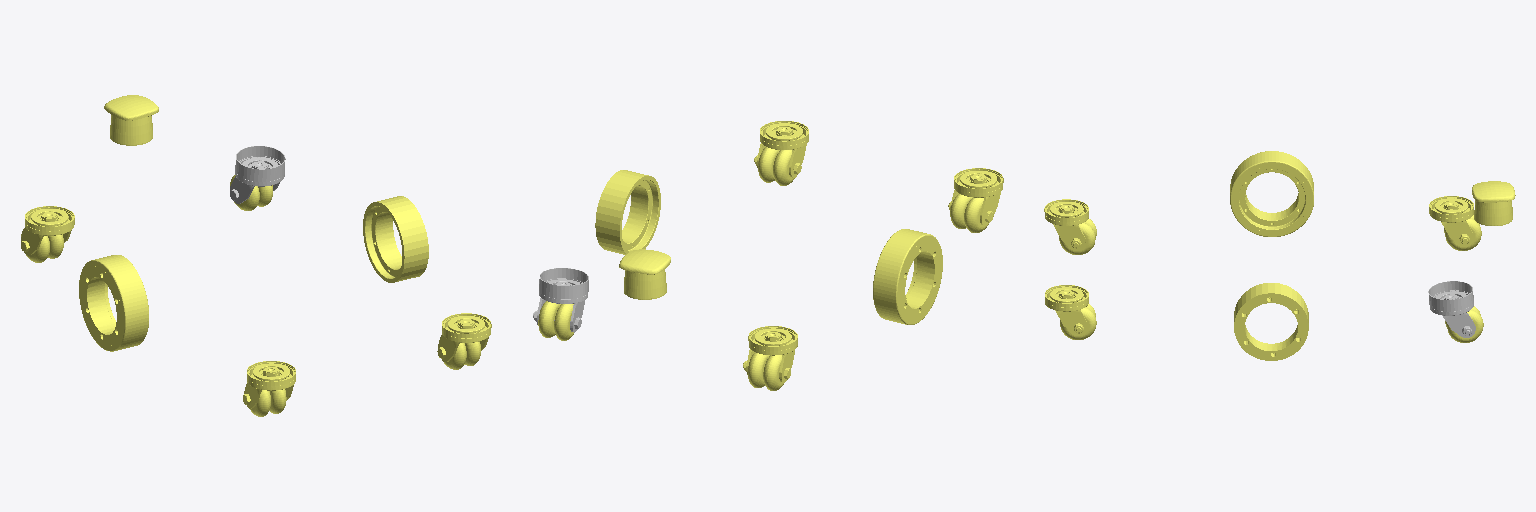
robot.urdf — sia_agv2:
<?xml version="1.0" encoding="utf-8"?>
<!-- This URDF was automatically created by SolidWorks to URDF Exporter! Originally created by [author] ([email redacted]) 
     Commit Version: 1.6.0-1-g15f4949  Build Version: 1.6.7594.29634
     For more information, please see http://wiki.ros.org/sw_urdf_exporter -->
<robot
  name="sia_agv2">
  <link
    name="base_link">
    <inertial>
      <origin
        xyz="-0.000543863853506091 0.282716810863512 -0.36138635137112"
        rpy="0 0 0" />
      <mass
        value="29.2907917401275" />
      <inertia
        ixx="0.658416147229005"
        ixy="0.000444325594903029"
        ixz="-5.22965035739952E-05"
        iyy="0.481294666894637"
        iyz="0.000150147215019541"
        izz="0.989603236439599" />
    </inertial>
    <visual>
      <origin
        xyz="0 0 0"
        rpy="0 0 0" />
      <geometry>
        <mesh
          filename="package://sia_agv2/meshes/base_link.STL" />
      </geometry>
      <material
        name="">
        <color
          rgba="1 1 1 1" />
      </material>
    </visual>
    <collision>
      <origin
        xyz="0 0 0"
        rpy="0 0 0" />
      <geometry>
        <mesh
          filename="package://sia_agv2/meshes/base_link.STL" />
      </geometry>
    </collision>
  </link>
  <link
    name="1_Link">
    <inertial>
      <origin
        xyz="-8.14202632020283E-05 0.00610304740119338 -0.0161440698140209"
        rpy="0 0 0" />
      <mass
        value="0.0728108307863773" />
      <inertia
        ixx="2.279226907759E-05"
        ixy="-1.52431962880911E-07"
        ixz="-1.17033639983441E-07"
        iyy="2.43402166733781E-05"
        iyz="1.19958125852891E-06"
        izz="3.97943793169979E-05" />
    </inertial>
    <visual>
      <origin
        xyz="0 0 0"
        rpy="0 0 0" />
      <geometry>
        <mesh
          filename="package://sia_agv2/meshes/1_Link.STL" />
      </geometry>
      <material
        name="">
        <color
          rgba="1 1 0.501960784313725 1" />
      </material>
    </visual>
    <collision>
      <origin
        xyz="0 0 0"
        rpy="0 0 0" />
      <geometry>
        <mesh
          filename="package://sia_agv2/meshes/1_Link.STL" />
      </geometry>
    </collision>
  </link>
  <joint
    name="1-joint"
    type="revolute">
    <origin
      xyz="-0.194 0.59539 -0.604"
      rpy="0 0 0" />
    <parent
      link="base_link" />
    <child
      link="1_Link" />
    <axis
      xyz="0 0 -1" />
    <limit
      lower="-3.14"
      upper="3.14"
      effort="0"
      velocity="0" />
  </joint>
  <link
    name="1-1_Link">
    <inertial>
      <origin
        xyz="1.54128708518275E-07 -6.35365208223604E-07 -2.08668753956531E-07"
        rpy="0 0 0" />
      <mass
        value="0.126066263473178" />
      <inertia
        ixx="3.69211700768695E-05"
        ixy="1.59275080958781E-11"
        ixz="-4.07947748521245E-10"
        iyy="3.69211197129469E-05"
        iyz="1.49202086216788E-09"
        izz="6.47847031089787E-05" />
    </inertial>
    <visual>
      <origin
        xyz="0 0 0"
        rpy="0 0 0" />
      <geometry>
        <mesh
          filename="package://sia_agv2/meshes/1-1_Link.STL" />
      </geometry>
      <material
        name="">
        <color
          rgba="1 1 0.501960784313725 1" />
      </material>
    </visual>
    <collision>
      <origin
        xyz="0 0 0"
        rpy="0 0 0" />
      <geometry>
        <mesh
          filename="package://sia_agv2/meshes/1-1_Link.STL" />
      </geometry>
    </collision>
  </link>
  <joint
    name="1-1_joint"
    type="revolute">
    <origin
      xyz="-0.0019416 0.019905 -0.0435"
      rpy="1.5708 0 -1.4736" />
    <parent
      link="1_Link" />
    <child
      link="1-1_Link" />
    <axis
      xyz="0 0 -1" />
    <limit
      lower="-3.14"
      upper="3.14"
      effort="0"
      velocity="0" />
  </joint>
  <link
    name="2_Link">
    <inertial>
      <origin
        xyz="-0.000336543565982339 0.0067145336674802 -0.0138488838342261"
        rpy="0 0 0" />
      <mass
        value="0.0773960442571589" />
      <inertia
        ixx="2.79271956658027E-05"
        ixy="-2.09328673275462E-07"
        ixz="-1.86296961191266E-07"
        iyy="2.93597569308493E-05"
        iyz="-2.80412358155225E-08"
        izz="4.69036460817845E-05" />
    </inertial>
    <visual>
      <origin
        xyz="0 0 0"
        rpy="0 0 0" />
      <geometry>
        <mesh
          filename="package://sia_agv2/meshes/2_Link.STL" />
      </geometry>
      <material
        name="">
        <color
          rgba="0.854901960784314 0.854901960784314 0.854901960784314 1" />
      </material>
    </visual>
    <collision>
      <origin
        xyz="0 0 0"
        rpy="0 0 0" />
      <geometry>
        <mesh
          filename="package://sia_agv2/meshes/2_Link.STL" />
      </geometry>
    </collision>
  </link>
  <joint
    name="2-joint"
    type="revolute">
    <origin
      xyz="0.194 0.59535 -0.6056"
      rpy="0 0 0" />
    <parent
      link="base_link" />
    <child
      link="2_Link" />
    <axis
      xyz="0 0 -1" />
    <limit
      lower="-3.14"
      upper="3.14"
      effort="0"
      velocity="0" />
  </joint>
  <link
    name="2-1_Link">
    <inertial>
      <origin
        xyz="8.63289463803874E-08 -6.61745890639942E-07 2.14074135862496E-07"
        rpy="0 0 0" />
      <mass
        value="0.126066298764299" />
      <inertia
        ixx="3.69211742911089E-05"
        ixy="3.29619978086518E-12"
        ixz="1.35062822981863E-10"
        iyy="3.6921114726363E-05"
        iyz="-1.54062454753047E-09"
        izz="6.47847019668671E-05" />
    </inertial>
    <visual>
      <origin
        xyz="0 0 0"
        rpy="0 0 0" />
      <geometry>
        <mesh
          filename="package://sia_agv2/meshes/2-1_Link.STL" />
      </geometry>
      <material
        name="">
        <color
          rgba="1 1 0.501960784313725 1" />
      </material>
    </visual>
    <collision>
      <origin
        xyz="0 0 0"
        rpy="0 0 0" />
      <geometry>
        <mesh
          filename="package://sia_agv2/meshes/2-1_Link.STL" />
      </geometry>
    </collision>
  </link>
  <joint
    name="2-1_joint"
    type="revolute">
    <origin
      xyz="-0.0028411 0.022783 -0.042013"
      rpy="1.5807 0.069104 -1.4279" />
    <parent
      link="2_Link" />
    <child
      link="2-1_Link" />
    <axis
      xyz="0 0 -1" />
    <limit
      lower="-3.14"
      upper="3.14"
      effort="0"
      velocity="0" />
  </joint>
  <link
    name="3_Link">
    <inertial>
      <origin
        xyz="-6.93889390390723E-18 0 0.00168998379535312"
        rpy="0 0 0" />
      <mass
        value="0.418358558488212" />
      <inertia
        ixx="0.000915617766712358"
        ixy="3.32582077666032E-20"
        ixz="1.88985288748301E-20"
        iyy="0.000915617766712358"
        iyz="-8.76135733408917E-21"
        izz="0.00170660288564837" />
    </inertial>
    <visual>
      <origin
        xyz="0 0 0"
        rpy="0 0 0" />
      <geometry>
        <mesh
          filename="package://sia_agv2/meshes/3_Link.STL" />
      </geometry>
      <material
        name="">
        <color
          rgba="1 1 0.501960784313725 1" />
      </material>
    </visual>
    <collision>
      <origin
        xyz="0 0 0"
        rpy="0 0 0" />
      <geometry>
        <mesh
          filename="package://sia_agv2/meshes/3_Link.STL" />
      </geometry>
    </collision>
  </link>
  <joint
    name="3_joint"
    type="revolute">
    <origin
      xyz="-0.2595 0.2765 -0.605"
      rpy="1.5708 0 -1.5708" />
    <parent
      link="base_link" />
    <child
      link="3_Link" />
    <axis
      xyz="0 0 -1" />
    <limit
      lower="-3.14"
      upper="3.14"
      effort="0"
      velocity="0" />
  </joint>
  <link
    name="4_Link">
    <inertial>
      <origin
        xyz="6.12704331715008E-15 -4.79616346638068E-14 0.00282199284179585"
        rpy="0 0 0" />
      <mass
        value="0.250538971616596" />
      <inertia
        ixx="0.000465816741663599"
        ixy="5.65058656963556E-20"
        ixz="3.31873042587156E-19"
        iyy="0.000465816741663599"
        iyz="-1.71216168600813E-20"
        izz="0.000863128969172632" />
    </inertial>
    <visual>
      <origin
        xyz="0 0 0"
        rpy="0 0 0" />
      <geometry>
        <mesh
          filename="package://sia_agv2/meshes/4_Link.STL" />
      </geometry>
      <material
        name="">
        <color
          rgba="1 1 0.501960784313725 1" />
      </material>
    </visual>
    <collision>
      <origin
        xyz="0 0 0"
        rpy="0 0 0" />
      <geometry>
        <mesh
          filename="package://sia_agv2/meshes/4_Link.STL" />
      </geometry>
    </collision>
  </link>
  <joint
    name="4_joint"
    type="revolute">
    <origin
      xyz="0.2595 0.27512 -0.61343"
      rpy="1.5708 0 1.5708" />
    <parent
      link="base_link" />
    <child
      link="4_Link" />
    <axis
      xyz="0 0 -1" />
    <limit
      lower="-3.14"
      upper="3.14"
      effort="0"
      velocity="0" />
  </joint>
  <link
    name="5_Link">
    <inertial>
      <origin
        xyz="0.00103770002703207 0.00601472892484933 -0.0161440697345775"
        rpy="0 0 0" />
      <mass
        value="0.0728108309256295" />
      <inertia
        ixx="2.27892988966431E-05"
        ixy="1.36495284501299E-07"
        ixz="1.04643060411549E-07"
        iyy="2.43431854614664E-05"
        iyz="1.20072630984208E-06"
        izz="3.97943785025612E-05" />
    </inertial>
    <visual>
      <origin
        xyz="0 0 0"
        rpy="0 0 0" />
      <geometry>
        <mesh
          filename="package://sia_agv2/meshes/5_Link.STL" />
      </geometry>
      <material
        name="">
        <color
          rgba="1 1 0.501960784313725 1" />
      </material>
    </visual>
    <collision>
      <origin
        xyz="0 0 0"
        rpy="0 0 0" />
      <geometry>
        <mesh
          filename="package://sia_agv2/meshes/5_Link.STL" />
      </geometry>
    </collision>
  </link>
  <joint
    name="5_joint"
    type="revolute">
    <origin
      xyz="-0.18 -0.0885 -0.604"
      rpy="0 0 0" />
    <parent
      link="base_link" />
    <child
      link="5_Link" />
    <axis
      xyz="0 0 -1" />
    <limit
      lower="-3.14"
      upper="3.14"
      effort="0"
      velocity="0" />
  </joint>
  <link
    name="5-1_Link">
    <inertial>
      <origin
        xyz="-2.5138800996416E-07 6.19546932312254E-07 1.74490358807733E-07"
        rpy="0 0 0" />
      <mass
        value="0.126066317340043" />
      <inertia
        ixx="3.71313849029771E-05"
        ixy="-1.09124836455106E-10"
        ixz="-2.41105892440028E-06"
        iyy="3.69211204624104E-05"
        iyz="1.45526694390849E-09"
        izz="6.45744854056141E-05" />
    </inertial>
    <visual>
      <origin
        xyz="0 0 0"
        rpy="0 0 0" />
      <geometry>
        <mesh
          filename="package://sia_agv2/meshes/5-1_Link.STL" />
      </geometry>
      <material
        name="">
        <color
          rgba="1 1 0.501960784313725 1" />
      </material>
    </visual>
    <collision>
      <origin
        xyz="0 0 0"
        rpy="0 0 0" />
      <geometry>
        <mesh
          filename="package://sia_agv2/meshes/5-1_Link.STL" />
      </geometry>
    </collision>
  </link>
  <joint
    name="5-1_joint"
    type="revolute">
    <origin
      xyz="0.0017368 0.019924 -0.0435"
      rpy="1.5708 0 -1.5708" />
    <parent
      link="5_Link" />
    <child
      link="5-1_Link" />
    <axis
      xyz="0 0 1" />
    <limit
      lower="-3.14"
      upper="3.14"
      effort="0"
      velocity="0" />
  </joint>
  <link
    name="6_Link">
    <inertial>
      <origin
        xyz="0.000273986900293122 0.00609743706279098 -0.0161440693104884"
        rpy="0 0 0" />
      <mass
        value="0.0728108291695974" />
      <inertia
        ixx="2.27797981840266E-05"
        ixy="-6.14434156285646E-08"
        ixz="-4.70056384567012E-08"
        iyy="2.43526875822419E-05"
        iyz="1.20436001342095E-06"
        izz="3.97943792246835E-05" />
    </inertial>
    <visual>
      <origin
        xyz="0 0 0"
        rpy="0 0 0" />
      <geometry>
        <mesh
          filename="package://sia_agv2/meshes/6_Link.STL" />
      </geometry>
      <material
        name="">
        <color
          rgba="1 1 0.501960784313725 1" />
      </material>
    </visual>
    <collision>
      <origin
        xyz="0 0 0"
        rpy="0 0 0" />
      <geometry>
        <mesh
          filename="package://sia_agv2/meshes/6_Link.STL" />
      </geometry>
    </collision>
  </link>
  <joint
    name="6-joint"
    type="revolute">
    <origin
      xyz="0.18 -0.0885 -0.604"
      rpy="0 0 0" />
    <parent
      link="base_link" />
    <child
      link="6_Link" />
    <axis
      xyz="0 0 -1" />
    <limit
      lower="-3.14"
      upper="3.14"
      effort="0"
      velocity="0" />
  </joint>
  <link
    name="6-1_Link">
    <inertial>
      <origin
        xyz="-2.30745561546897E-09 -7.89610055118573E-09 -9.54958800924999E-09"
        rpy="0 0 0" />
      <mass
        value="0.126061731217855" />
      <inertia
        ixx="3.69211695299971E-05"
        ixy="1.52621131934903E-11"
        ixz="-4.08287922080125E-10"
        iyy="3.69211191221606E-05"
        iyz="1.49225017362431E-09"
        izz="6.47847033079185E-05" />
    </inertial>
    <visual>
      <origin
        xyz="0 0 0"
        rpy="0 0 0" />
      <geometry>
        <mesh
          filename="package://sia_agv2/meshes/6-1_Link.STL" />
      </geometry>
      <material
        name="">
        <color
          rgba="1 1 0.501960784313725 1" />
      </material>
    </visual>
    <collision>
      <origin
        xyz="0 0 0"
        rpy="0 0 0" />
      <geometry>
        <mesh
          filename="package://sia_agv2/meshes/6-1_Link.STL" />
      </geometry>
    </collision>
  </link>
  <joint
    name="6-1_joint"
    type="revolute">
    <origin
      xyz="-0.00077959 0.019985 -0.0435"
      rpy="1.5708 0 -1.5318" />
    <parent
      link="6_Link" />
    <child
      link="6-1_Link" />
    <axis
      xyz="0 0 1" />
    <limit
      lower="-3.14"
      upper="3.14"
      effort="0"
      velocity="0" />
  </joint>
  <link
    name="laser_Link">
    <inertial>
      <origin
        xyz="6.33688978618485E-06 -5.59744645495797E-05 0.0278383378698622"
        rpy="0 0 0" />
      <mass
        value="0.216211395934109" />
      <inertia
        ixx="0.000130773887841249"
        ixy="2.26503861750725E-08"
        ixz="-3.28530461658848E-08"
        iyy="0.000130567645197807"
        iyz="2.90267159366494E-07"
        izz="0.000128913789383877" />
    </inertial>
    <visual>
      <origin
        xyz="0 0 0"
        rpy="0 0 0" />
      <geometry>
        <mesh
          filename="package://sia_agv2/meshes/laser_Link.STL" />
      </geometry>
      <material
        name="">
        <color
          rgba="1 1 0.501960784313725 1" />
      </material>
    </visual>
    <collision>
      <origin
        xyz="0 0 0"
        rpy="0 0 0" />
      <geometry>
        <mesh
          filename="package://sia_agv2/meshes/laser_Link.STL" />
      </geometry>
    </collision>
  </link>
  <joint
    name="laser_joint"
    type="revolute">
    <origin
      xyz="0 0.67006 -0.529"
      rpy="0 0 0" />
    <parent
      link="base_link" />
    <child
      link="laser_Link" />
    <axis
      xyz="0 0 -1" />
    <limit
      lower="-3.14"
      upper="3.14"
      effort="0"
      velocity="0" />
  </joint>
</robot>

--- Facts derived from the render (not from the file) ---
Views: 3 orthographic renders of the robot side by side, from view 1: azimuth 30°, elevation 25°; view 2: azimuth 150°, elevation 25°; view 3: azimuth 270°, elevation 25°.
Robot: sia_agv2 — 12 links, 11 joints (11 revolute); root link base_link; default pose: every joint at zero.
Links seen in each view (by area): view 1: 3_Link, 4_Link, 2_Link, laser_Link, 1_Link, 6_Link, 5_Link, 5-1_Link, 6-1_Link, 1-1_Link, 2-1_Link; view 2: 3_Link, 4_Link, laser_Link, 2_Link, 5_Link, 6_Link, 1_Link, 2-1_Link, 1-1_Link, 6-1_Link, 5-1_Link; view 3: 3_Link, 4_Link, 2_Link, laser_Link, 5_Link, 1_Link, 6_Link.
Boxes of the visible links, x1,y1,x2,y2 form: 3_Link: [79, 255, 148, 351]; 4_Link: [363, 196, 428, 282]; 2_Link: [230, 146, 285, 203]; laser_Link: [104, 95, 158, 145]; 1_Link: [21, 206, 74, 255]; 6_Link: [437, 313, 491, 361]; 5_Link: [243, 361, 295, 408]; 5-1_Link: [250, 389, 286, 416]; 6-1_Link: [439, 335, 480, 369]; 1-1_Link: [21, 228, 63, 262]; 2-1_Link: [230, 175, 272, 210]; 3_Link: [873, 229, 942, 324]; 4_Link: [595, 170, 660, 254]; laser_Link: [619, 249, 670, 299]; 2_Link: [533, 268, 588, 332]; 5_Link: [948, 168, 1003, 225]; 6_Link: [754, 121, 808, 177]; 1_Link: [743, 326, 797, 382]; 2-1_Link: [538, 301, 573, 340]; 1-1_Link: [748, 352, 783, 390]; 6-1_Link: [758, 147, 794, 185]; 5-1_Link: [950, 194, 988, 232]; 3_Link: [1230, 151, 1313, 236]; 4_Link: [1234, 283, 1308, 360]; 2_Link: [1428, 281, 1475, 337]; laser_Link: [1472, 181, 1515, 225]; 5_Link: [1044, 199, 1088, 250]; 1_Link: [1429, 196, 1473, 245]; 6_Link: [1045, 285, 1088, 335].
Size in the robot's own frame: 0.564 by 0.8371 by 0.2097 metres.
11 mesh visuals loaded from 12 distinct referenced files (11 binary STL); not drawn: 1 (reference not matched to a file when rendering).